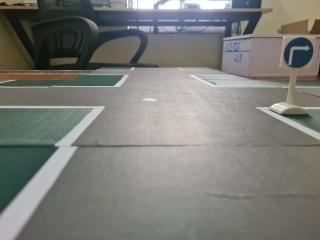right: (278, 34, 320, 74)
